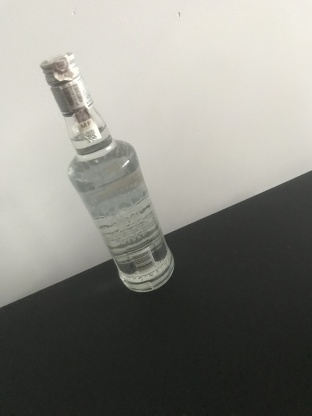nakretka: (38, 50, 94, 119)
